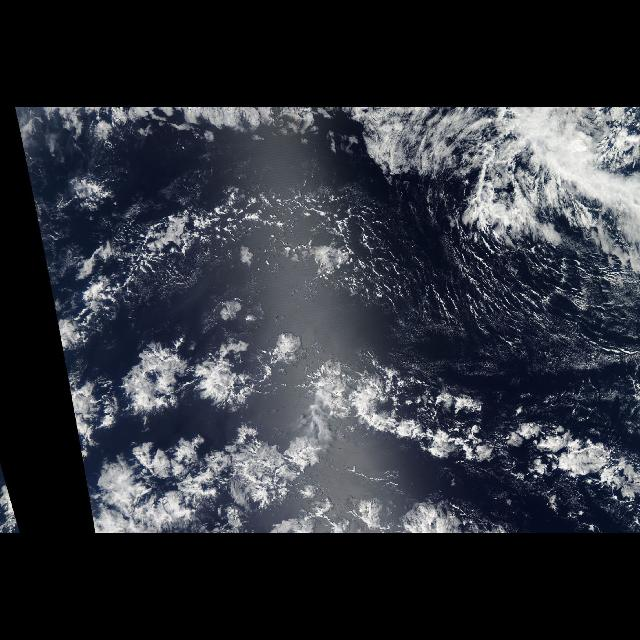Fish: (82, 423, 324, 533), (216, 189, 394, 293)
Flower: (55, 304, 349, 506)
Sugar: (391, 242, 639, 414)
